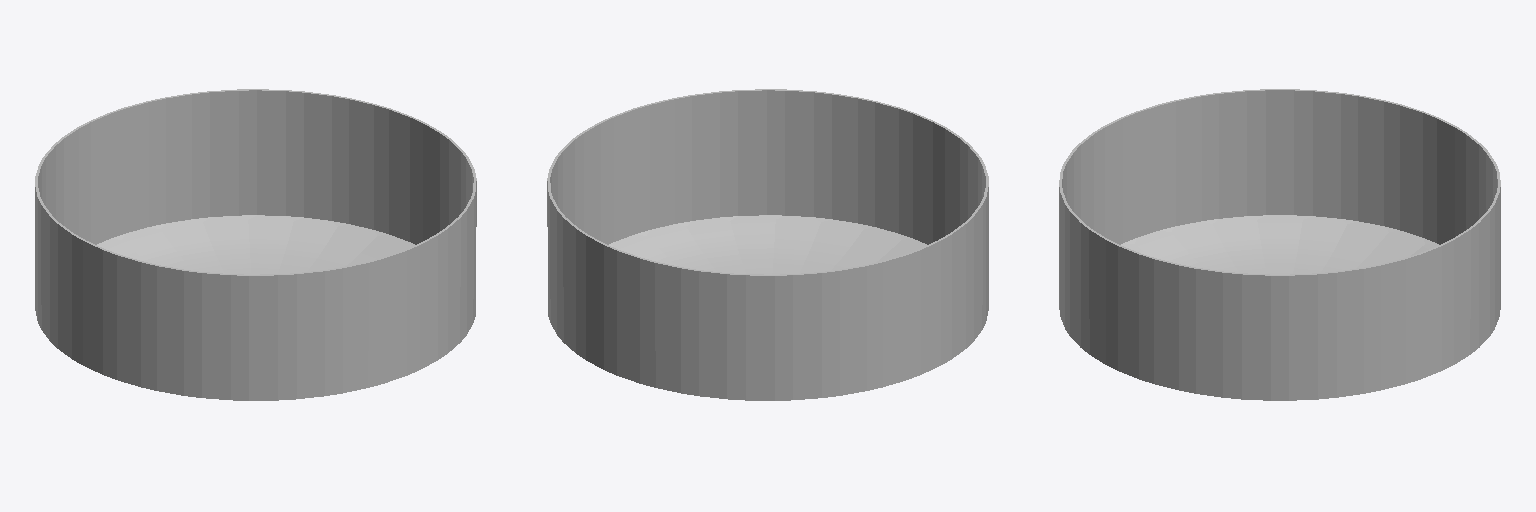
Rendered from Spinstabilized.obj.
3 views of the same model, side by side, from view 1: azimuth 30°, elevation 25°; view 2: azimuth 150°, elevation 25°; view 3: azimuth 270°, elevation 25° (orthographic).
Parts seen in each view (by area): view 1: Object001; view 2: Object001; view 3: Object001.
Part boxes in pixels (left/top/right/bottom): Object001: left=35, top=89, right=476, bottom=400; Object001: left=547, top=89, right=988, bottom=400; Object001: left=1059, top=89, right=1500, bottom=400.
Size of the model in its own units: 152 by 55.91 by 152.